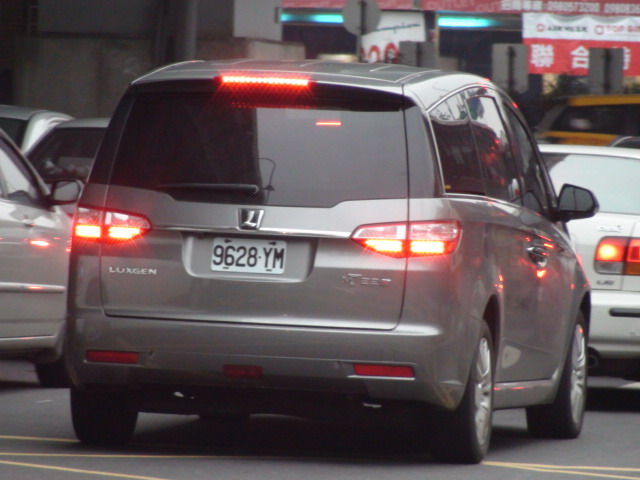plate: (209, 233, 289, 277)
